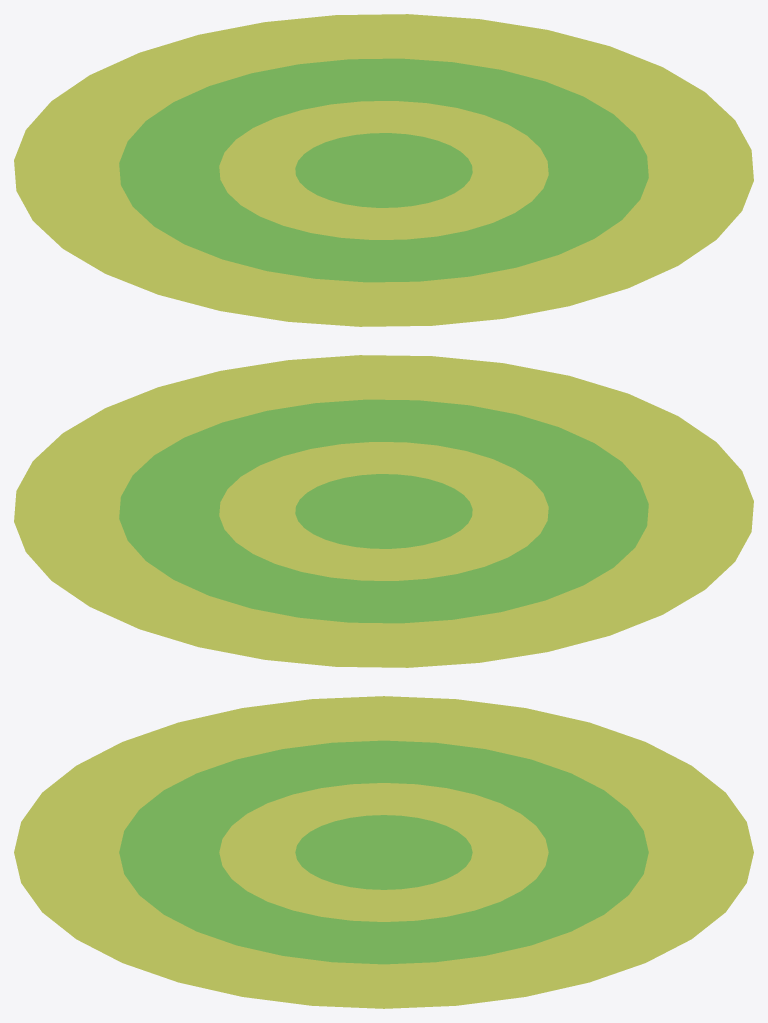
Rendered from rug_stripedround.fbx.
The picture shows the model from 3 angles, top to bottom: view 1: azimuth 30°, elevation 25°; view 2: azimuth 150°, elevation 25°; view 3: azimuth 270°, elevation 25°; orthographic projection.
Visible parts, largest first — view 1: Circle; view 2: Circle; view 3: Circle.
Boxes of the visible parts, <box> form: Circle: <box>14,14,753,326</box>; Circle: <box>14,355,753,667</box>; Circle: <box>14,696,753,1008</box>.
Bounding box in the file's own units: 429 × 6.98e-05 × 429.
